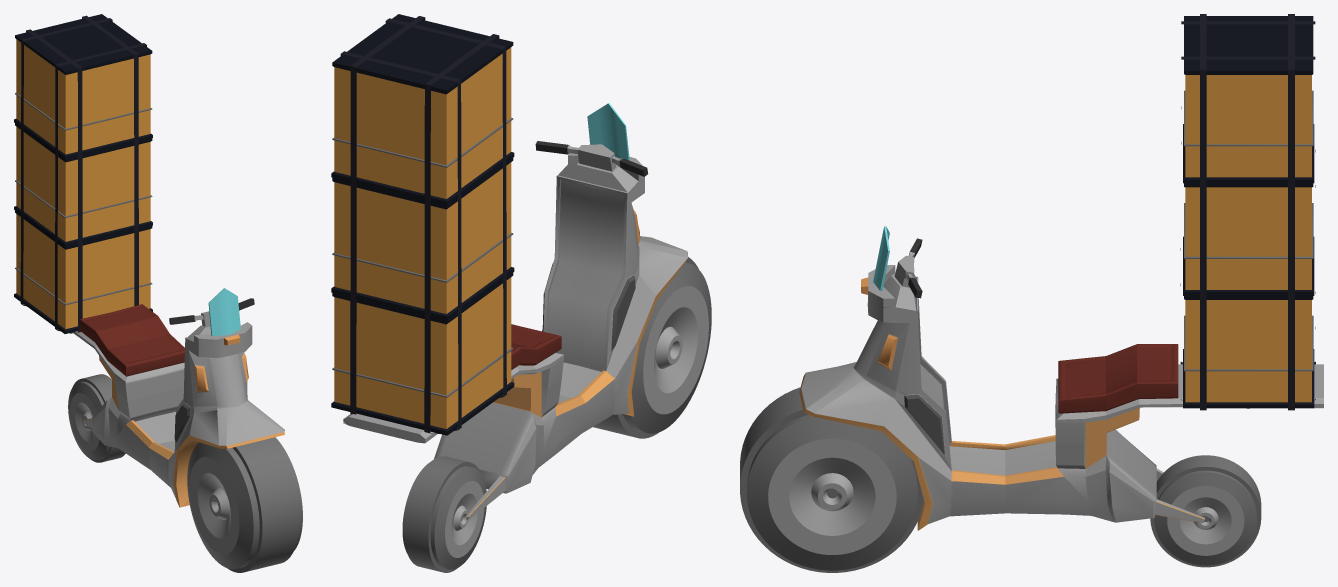
File: bike_forward.fbx
3 renders of one model, left to right at view 1: azimuth 30°, elevation 25°; view 2: azimuth 150°, elevation 25°; view 3: azimuth 270°, elevation 25°, orthographic. The views are drawn at different scales.
Parts seen in each view (by area): view 1: Cube.003, Cube.001, Cylinder, Plane, Cylinder.003; view 2: Cube.003, Cube.001, Cylinder, Plane, Cylinder.003; view 3: Cube.003, Cube.001, Cylinder, Cylinder.003, Plane.
Boxes of the visible parts, x1,y1,x2,y2 form: Cube.003: [14, 14, 152, 333]; Cube.001: [72, 288, 284, 507]; Cylinder: [187, 437, 302, 572]; Plane: [20, 15, 146, 333]; Cylinder.003: [68, 374, 125, 462]; Cube.003: [331, 14, 514, 435]; Cube.001: [343, 103, 687, 520]; Cylinder: [593, 257, 711, 438]; Plane: [340, 16, 506, 433]; Cylinder.003: [402, 456, 486, 572]; Cube.003: [1183, 16, 1314, 408]; Cube.001: [799, 226, 1323, 530]; Cylinder: [740, 387, 923, 572]; Cylinder.003: [1150, 455, 1261, 567]; Plane: [1180, 14, 1315, 410].
Size of the model in its own units: 5924 by 25456 by 25896.
